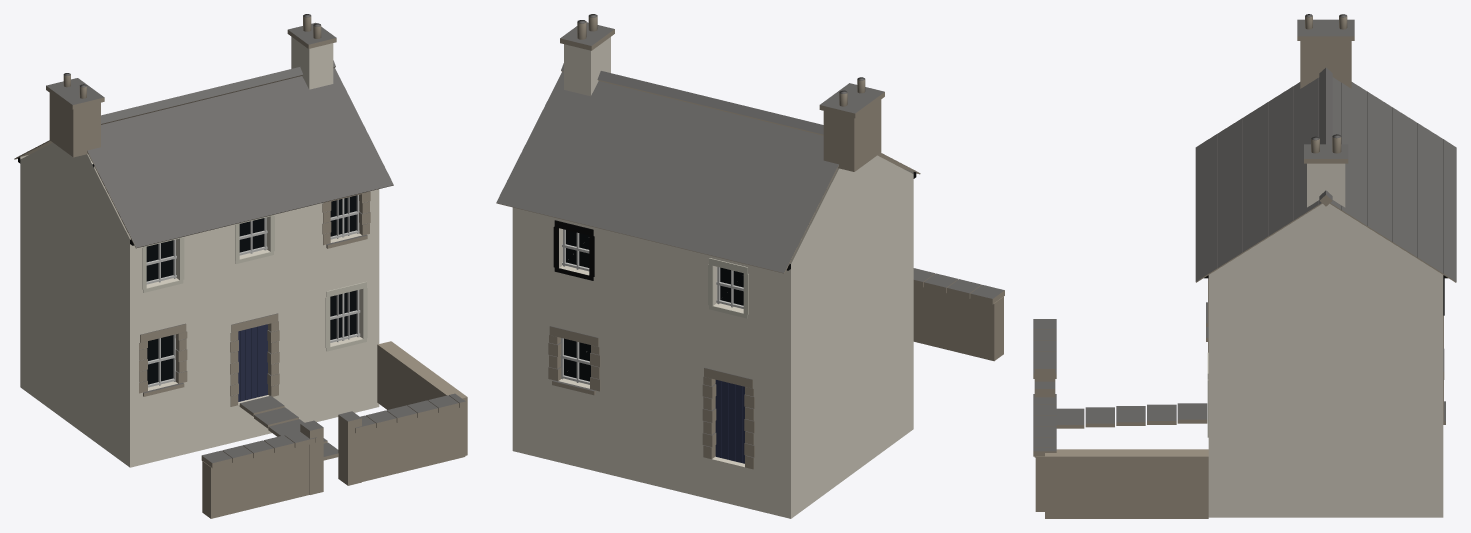
Rendered from context.dales.house_08.glb.
3 renders of one model, left to right at view 1: azimuth 30°, elevation 25°; view 2: azimuth 150°, elevation 25°; view 3: azimuth 270°, elevation 25°, orthographic. The views are drawn at different scales.
Visible parts, largest first — view 1: main__render_ddc, main__slate_666, main__stone_a98, main__glass_dark, main__paint_ccc, main__paint_ccb, main__paint_335; view 2: main__render_ddc, main__slate_666, main__stone_a98, main__paint_335, main__glass_dark, main__paint_ccc, main__rubber, main__paint_ccb; view 3: main__render_ddc, main__slate_666, main__stone_a98.
Boxes of the visible parts, bbox=[...] form: main__render_ddc: bbox=[20, 37, 379, 467]; main__slate_666: bbox=[46, 14, 465, 462]; main__stone_a98: bbox=[14, 16, 467, 518]; main__glass_dark: bbox=[92, 164, 356, 384]; main__paint_ccc: bbox=[91, 162, 360, 387]; main__paint_ccb: bbox=[88, 155, 367, 351]; main__paint_335: bbox=[238, 324, 267, 401]; main__render_ddc: bbox=[512, 37, 913, 518]; main__slate_666: bbox=[496, 14, 1004, 457]; main__stone_a98: bbox=[496, 16, 1004, 469]; main__paint_335: bbox=[715, 380, 745, 463]; main__glass_dark: bbox=[564, 230, 743, 381]; main__paint_ccc: bbox=[560, 229, 743, 384]; main__rubber: bbox=[553, 172, 916, 280]; main__paint_ccb: bbox=[708, 258, 748, 318]; main__render_ddc: bbox=[1208, 163, 1443, 517]; main__slate_666: bbox=[1033, 14, 1456, 451]; main__stone_a98: bbox=[1033, 16, 1456, 518].
Size of the model in its own units: 8.01 by 9.68 by 9.9.
